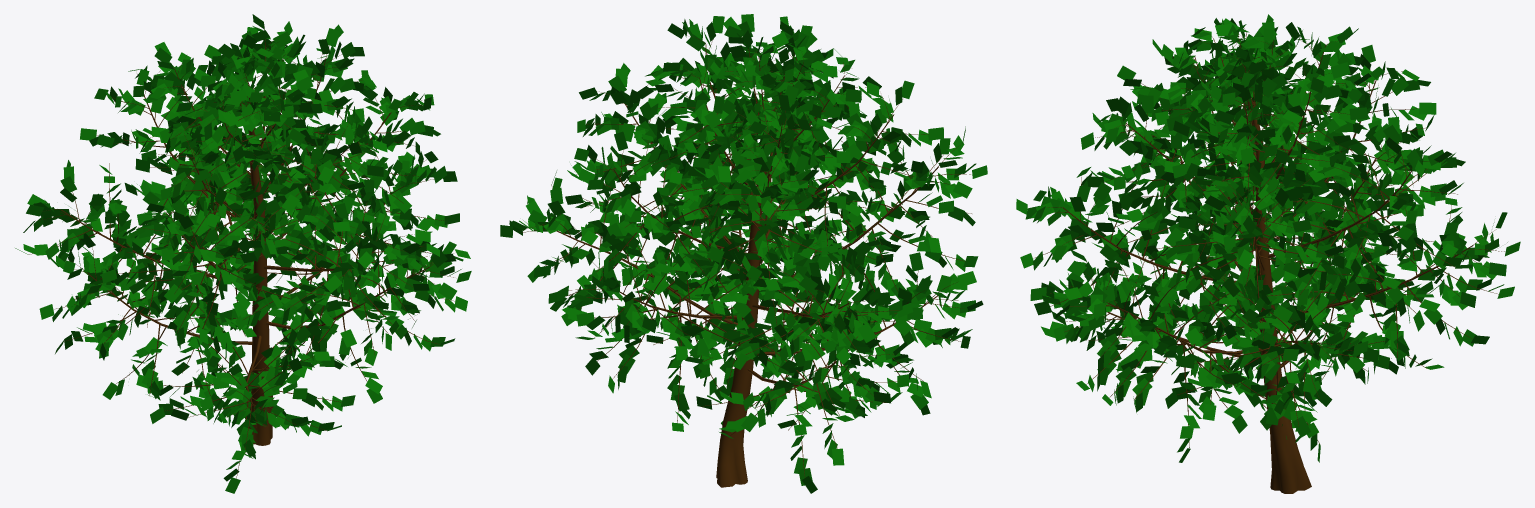
The model's file is Object_treeOak.FBX.
The picture shows the model from 3 angles, left to right: view 1: azimuth 30°, elevation 25°; view 2: azimuth 150°, elevation 25°; view 3: azimuth 270°, elevation 25°; orthographic projection. The views are drawn at different scales.
Parts seen in each view (by area): view 1: Foliage002; view 2: Foliage002; view 3: Foliage002.
Part boxes in pixels (x1,y1,x2,y2): Foliage002: (15,14,471,493); Foliage002: (500,14,987,493); Foliage002: (1016,14,1520,493).
Bounding box in the file's own units: 1074 × 1100 × 1101.
